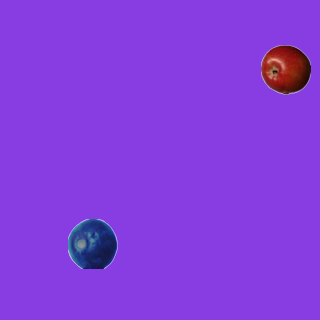Apple Braeburn: (260, 44, 310, 94)
Huckleberry: (67, 218, 117, 268)
